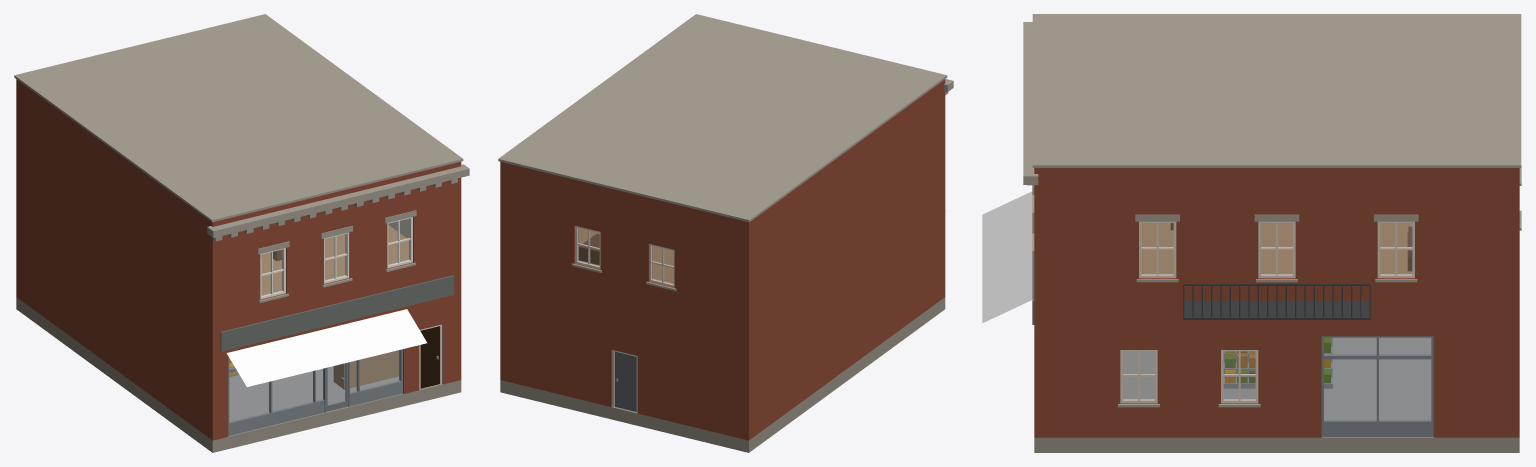
The model's file is corner.glb.
3 views of the same model, side by side, from view 1: azimuth 30°, elevation 25°; view 2: azimuth 150°, elevation 25°; view 3: azimuth 270°, elevation 25° (orthographic). The views are drawn at different scales.
Visible parts, largest first — view 1: LOD0, FURN, LEAF1, LEAF0; view 2: LOD0, LEAF2; view 3: LOD0, FURN.
Part boxes in pixels (x1=…): LOD0: x1=14, y1=14, x2=469, y2=452; FURN: x1=229, y1=249, x2=398, y2=389; LEAF1: x1=420, y1=326, x2=439, y2=388; LEAF0: x1=326, y1=362, x2=347, y2=411; LOD0: x1=498, y1=14, x2=953, y2=452; LEAF2: x1=614, y1=351, x2=636, y2=411; LOD0: x1=982, y1=14, x2=1521, y2=452; FURN: x1=1170, y1=223, x2=1412, y2=388.
Size of what is drawn, in the model's own units: 10.75 by 8.53 by 14.46.
